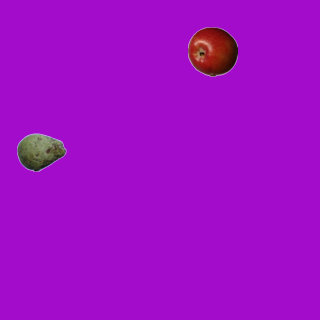Apple Braeburn: (187, 26, 237, 76)
Pear Stone: (16, 127, 66, 177)
